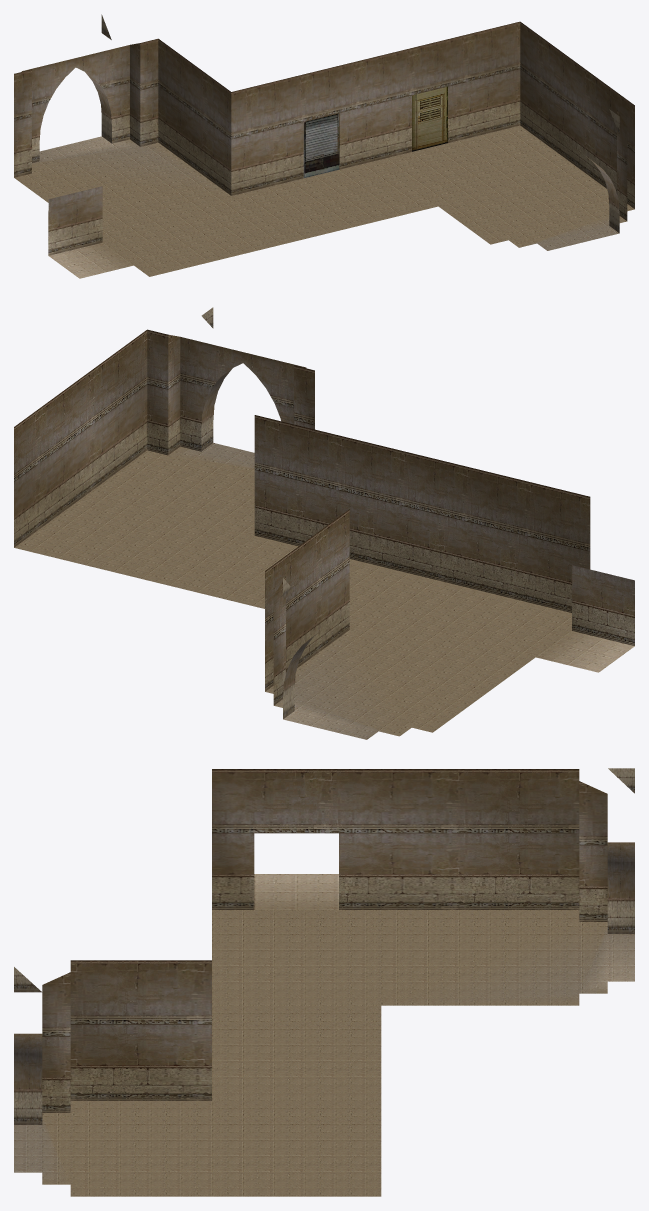
The model's file is M11Z1_Building03_A.glb.
3 renders of one model, top to bottom at view 1: azimuth 30°, elevation 25°; view 2: azimuth 150°, elevation 25°; view 3: azimuth 270°, elevation 25°, orthographic. The views are drawn at different scales.
Parts seen in each view (by area): view 1: M11Z1_BUILDING03_A; view 2: M11Z1_BUILDING03_A; view 3: M11Z1_BUILDING03_A.
Part boxes in pixels (<box>): M11Z1_BUILDING03_A: <box>14,14,634,278</box>; M11Z1_BUILDING03_A: <box>14,307,634,739</box>; M11Z1_BUILDING03_A: <box>14,768,634,1196</box>.
Size of the model in its own units: 27 by 6.46 by 21.97.
Materials: 6 (6 with a texture image).
